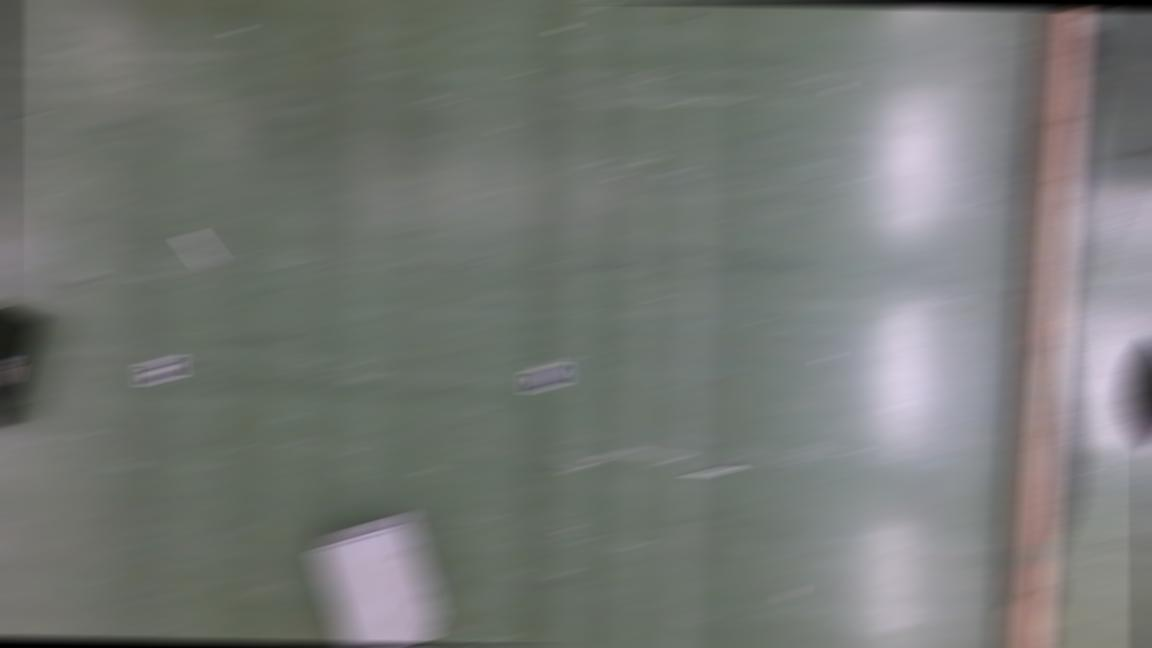probes: (180, 231, 217, 262)
rako: (311, 510, 443, 644), (0, 297, 42, 434)
